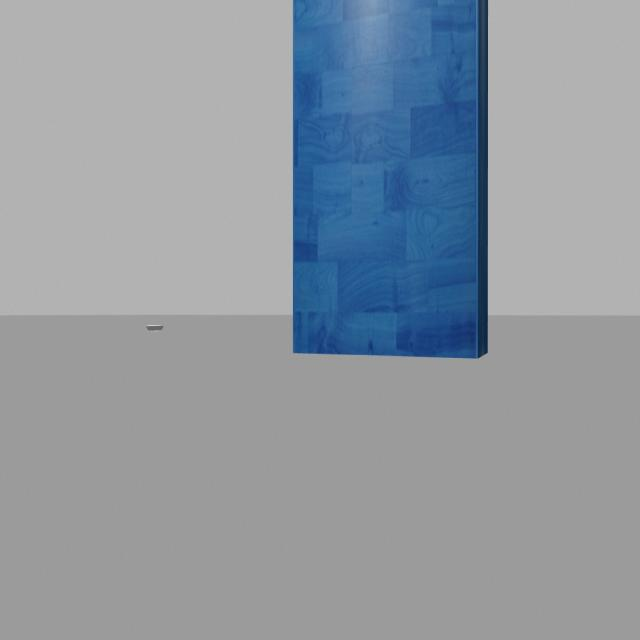bowl: (142, 314, 171, 340)
shelf: (277, 0, 498, 380)
